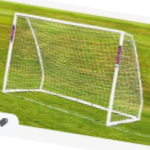goals: (1, 11, 145, 127)
